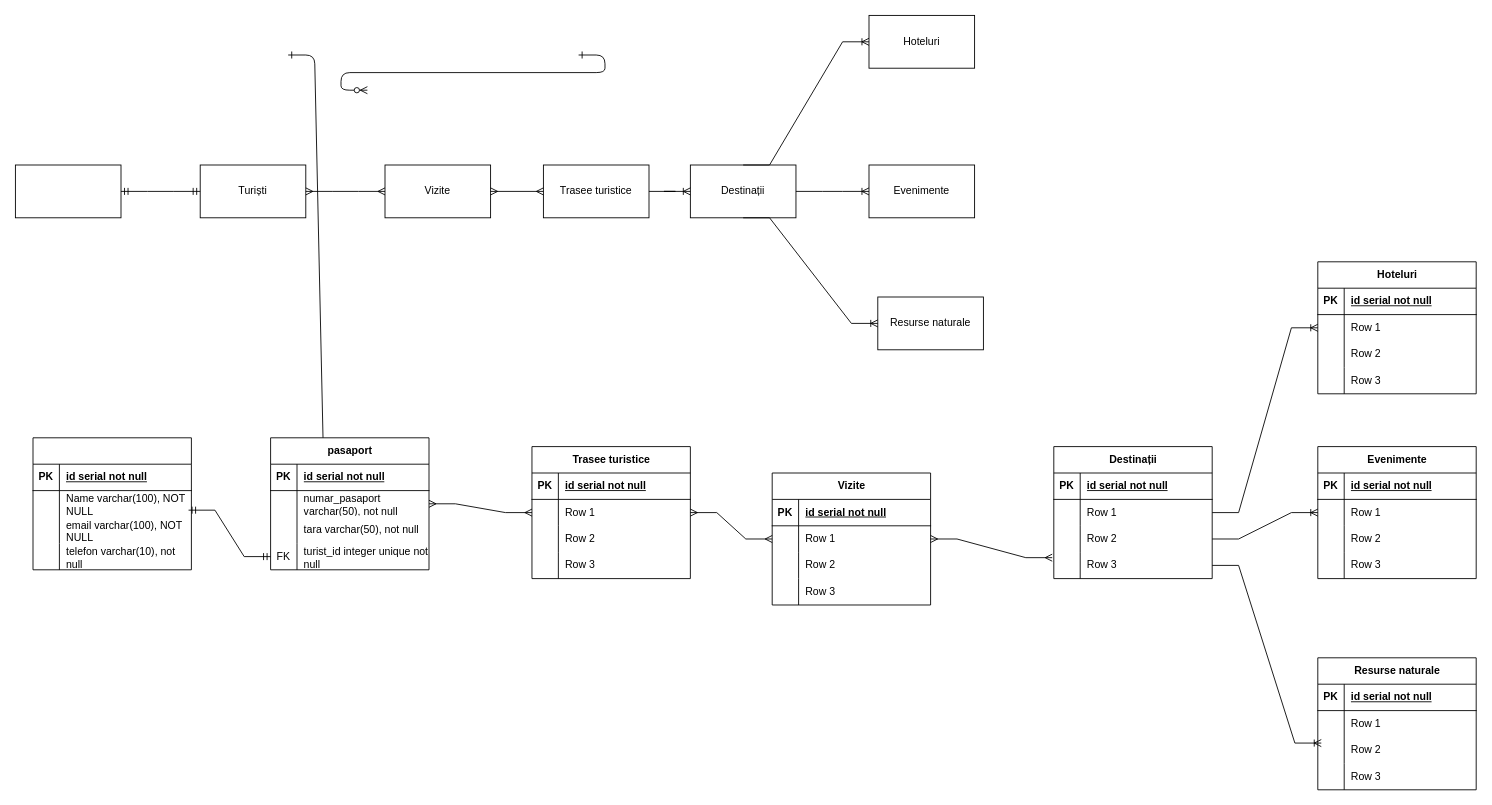
The diagram is 1492 pixels wide and 805 high, and some of its shapes have lost their labels. The shapes that lost their labels are listed below. From the top down, each one's box as (x1, y1, x2, y2) in pixels, then its label:
(15, 164, 121, 218): Pașaport
(32, 437, 191, 570): turist
